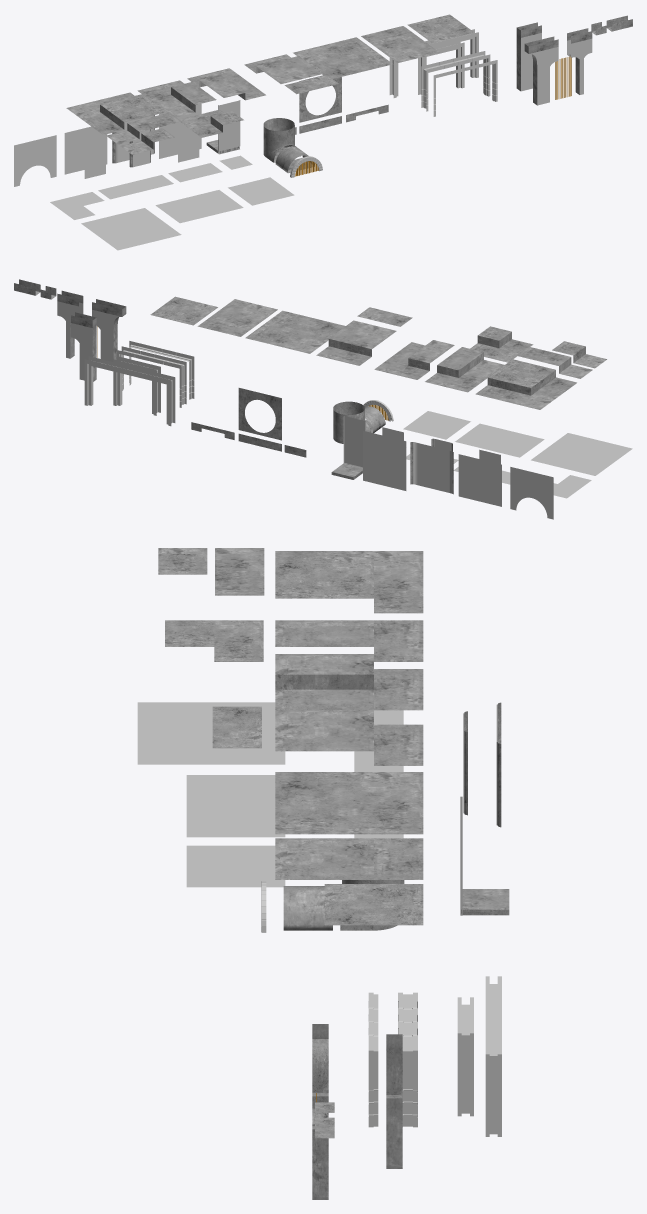
File: Sewerage_Module_1.fbx
3 renders of one model, top to bottom at view 1: azimuth 30°, elevation 25°; view 2: azimuth 150°, elevation 25°; view 3: azimuth 270°, elevation 25°, orthographic. The views are drawn at different scales.
Visible parts, largest first — view 1: SW_1_Ground_Tile_9x9m, SW_1_Ceiling_Tile_Flat_9x9m, SW_1_Ceiling_Tile_Corner_1, SW_1_Ceiling_Tile_Corner_2_L, SW_1_Ground_Tile_9x6m, SW_1_Ceiling_Tile_Flat_9x6m, SW_1_Column_Arch_End_1, SW_1_Wall_Vent_1, SW_1_Ceiling_Tile_1, SW_1_Ceiling_Tile_Corner_2_R, SW_1_Column_Arch_End_2, SW_1_Arc (+25 smaller); view 2: SW_1_Ceiling_Tile_Corner_1, SW_1_Ground_Tile_9x9m, SW_1_Ceiling_Tile_Flat_9x9m, SW_1_Wall_Tall, SW_1_Ceiling_Tile_Corner_2_L, SW_1_Ceiling_Tile_1, SW_1_Wall_02, SW_1_Wall_01, SW_1_Arc_Transition_12m, SW_1_Ground_Tile_9x6m, SW_1_Ceiling_Tile_Corner_2_R, SW_1_Ceiling_Tile_Flat_9x6m (+19 smaller); view 3: SW_1_Ceiling_Tile_Flat_9x9m, SW_1_Ceiling_Tile_Corner_1, SW_1_Ceiling_Tile_Corner_2_R, SW_1_Ground_Tile_9x9m, SW_1_Ceiling_Tile_1, SW_1_Ceiling_Tile_Flat_9x6m, SW_1_Ground_Tile_9x6m, SW_1_Ceiling_Tile_Corner_2_L, SW_1_Ceiling_Tile_Flat_6x6m, SW_1_Ground_Tile_6x6m, SW_1_Ceiling_Tile_Corner_3, SW_1_Arc_Transition_12m (+11 smaller).
Boxes of the visible parts, <box> form: SW_1_Ground_Tile_9x9m: <box>81,208,181,250</box>; SW_1_Ceiling_Tile_Flat_9x9m: <box>293,37,392,78</box>; SW_1_Ceiling_Tile_Corner_1: <box>66,92,166,134</box>; SW_1_Ceiling_Tile_Corner_2_L: <box>137,80,216,117</box>; SW_1_Ground_Tile_9x6m: <box>155,190,243,223</box>; SW_1_Ceiling_Tile_Flat_9x6m: <box>361,26,439,62</box>; SW_1_Column_Arch_End_1: <box>524,36,558,105</box>; SW_1_Wall_Vent_1: <box>14,135,56,186</box>; SW_1_Ceiling_Tile_1: <box>244,54,323,83</box>; SW_1_Ceiling_Tile_Corner_2_R: <box>187,68,265,100</box>; SW_1_Column_Arch_End_2: <box>516,22,541,91</box>; SW_1_Arc: <box>421,51,490,111</box>; SW_1_Ceiling_Tile_Corner_1: <box>475,359,576,409</box>; SW_1_Ground_Tile_9x9m: <box>531,433,632,475</box>; SW_1_Ceiling_Tile_Flat_9x9m: <box>245,310,345,353</box>; SW_1_Wall_Tall: <box>363,431,406,490</box>; SW_1_Ceiling_Tile_Corner_2_L: <box>425,347,504,392</box>; SW_1_Ceiling_Tile_1: <box>316,320,396,365</box>; SW_1_Wall_02: <box>410,442,453,494</box>; SW_1_Wall_01: <box>458,454,501,506</box>; SW_1_Arc_Transition_12m: <box>84,356,175,426</box>; SW_1_Ground_Tile_9x6m: <box>455,423,544,457</box>; SW_1_Ceiling_Tile_Corner_2_R: <box>374,340,454,379</box>; SW_1_Ceiling_Tile_Flat_9x6m: <box>197,299,277,336</box>; SW_1_Ceiling_Tile_Flat_9x9m: <box>275,772,423,834</box>; SW_1_Ceiling_Tile_Corner_1: <box>275,551,423,613</box>; SW_1_Ceiling_Tile_Corner_2_R: <box>275,654,423,710</box>; SW_1_Ground_Tile_9x9m: <box>137,702,285,764</box>; SW_1_Ceiling_Tile_1: <box>275,709,423,765</box>; SW_1_Ceiling_Tile_Flat_9x6m: <box>275,838,423,879</box>; SW_1_Ground_Tile_9x6m: <box>186,775,285,837</box>; SW_1_Ceiling_Tile_Corner_2_L: <box>275,620,423,661</box>; SW_1_Ceiling_Tile_Flat_6x6m: <box>324,884,423,925</box>; SW_1_Ground_Tile_6x6m: <box>186,845,285,887</box>; SW_1_Ceiling_Tile_Corner_3: <box>165,620,263,661</box>; SW_1_Arc_Transition_12m: <box>485,976,501,1136</box>.
Bounding box in the file's own units: 8053 × 1368 × 2266.
